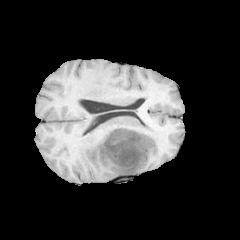glioma: (76, 115, 168, 179)
